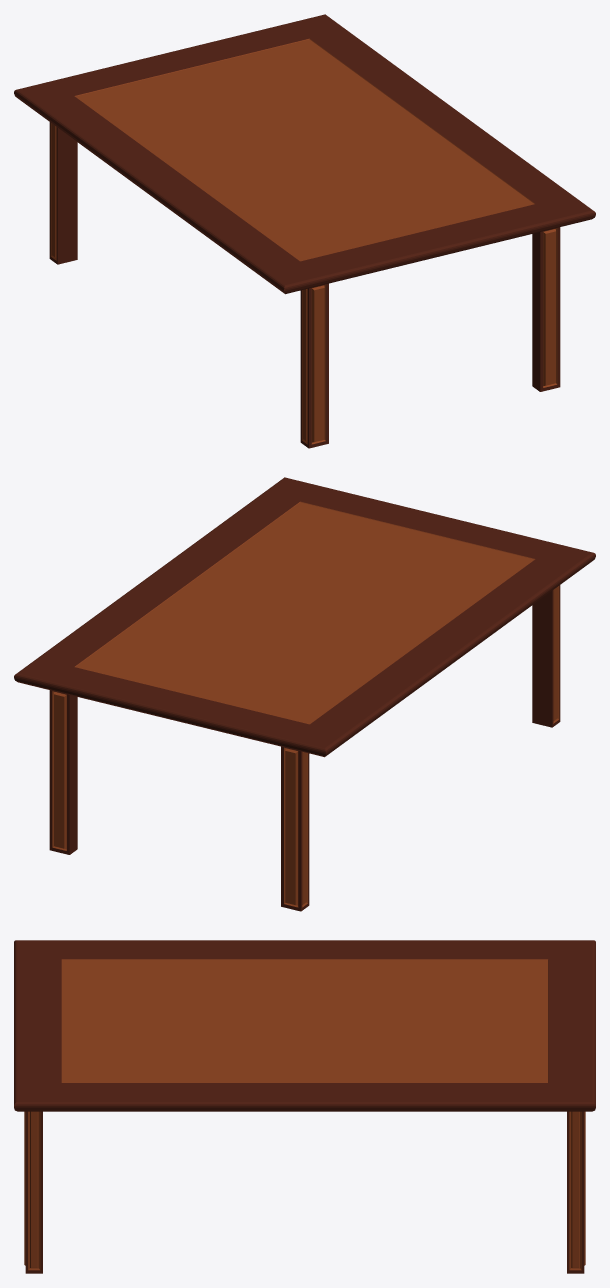
File: KitchenTable.fbx
3 views of the same model, one above another, from view 1: azimuth 30°, elevation 25°; view 2: azimuth 150°, elevation 25°; view 3: azimuth 270°, elevation 25° (orthographic). The views are drawn at different scales.
Visible parts, largest first — view 1: TableSurface, KitchenTable; view 2: TableSurface, KitchenTable; view 3: TableSurface, KitchenTable.
Boxes of the visible parts, x1,y1,x2,y2 form: TableSurface: (14, 14, 595, 294); KitchenTable: (49, 122, 560, 448); TableSurface: (14, 477, 595, 757); KitchenTable: (49, 585, 560, 911); TableSurface: (14, 940, 595, 1111); KitchenTable: (24, 1111, 585, 1273).
Size of the model in its own units: 200 by 106 by 300.
